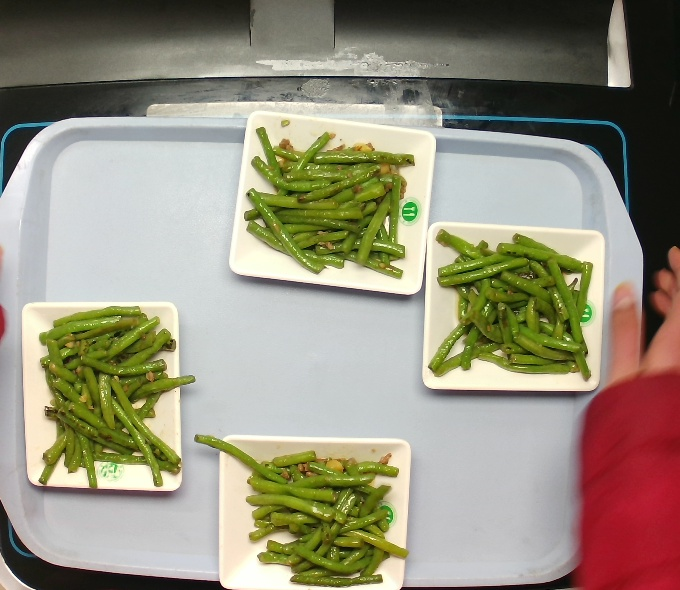wcq-RouMoJiangDou: (233, 117, 425, 283), (43, 295, 190, 501), (419, 230, 606, 389), (226, 427, 408, 589)
